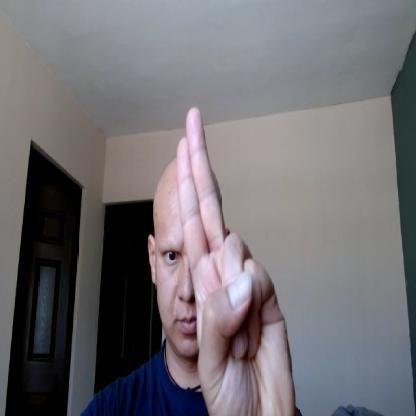U: (177, 105, 293, 415)
